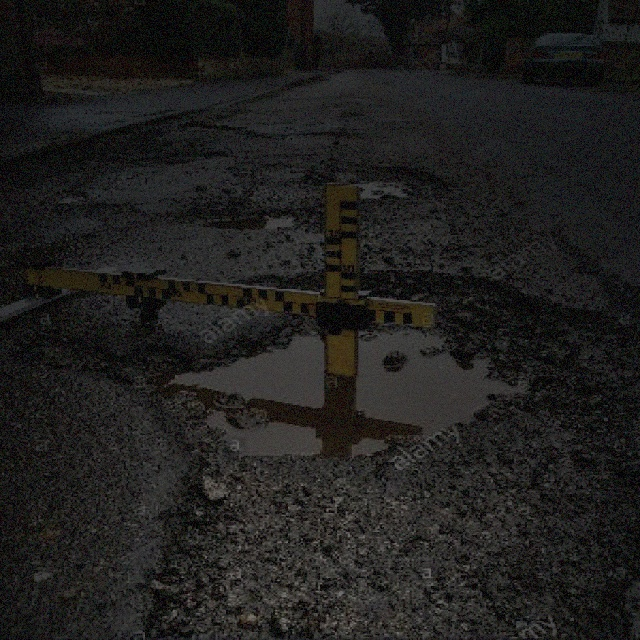pothole: (134, 262, 638, 527), (305, 154, 450, 203), (190, 205, 303, 230)
